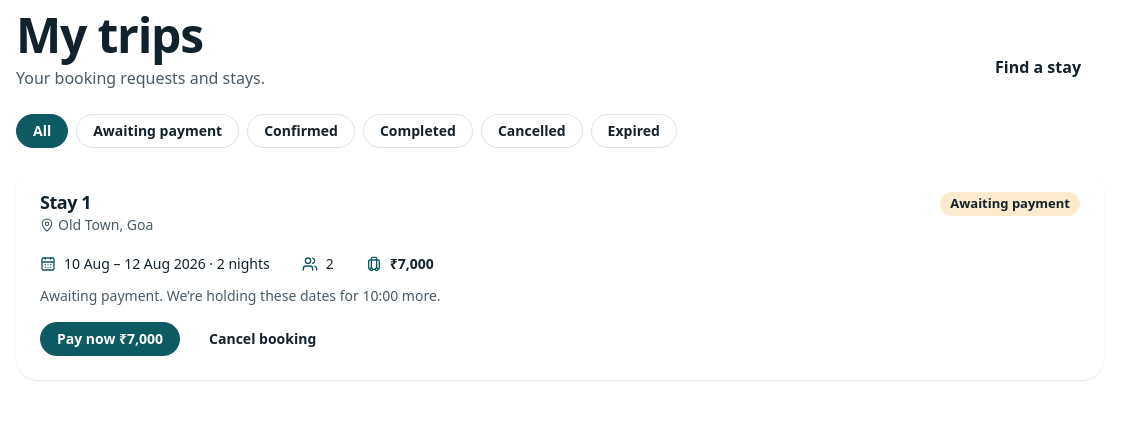
MyTrips › Pay now opens Checkout for the server’s order, verifies, and refreshes the list
The width and height of the screenshot is (1121, 426).
Click the button with aria-label "Pay now for Stay 1" at {"x": 110, "y": 339}, box [40,322,180,356]
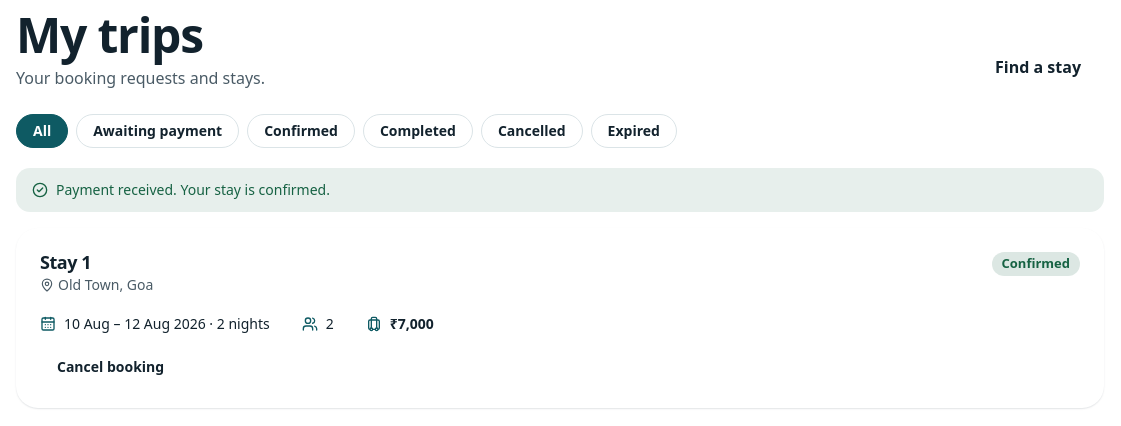
Result: the text "Payment received. Your stay is confirmed." is shown at [56,180,330,200]
Result: the text "Confirmed" is shown at [992,252,1080,276]
Result: the button "Pay now" is gone
